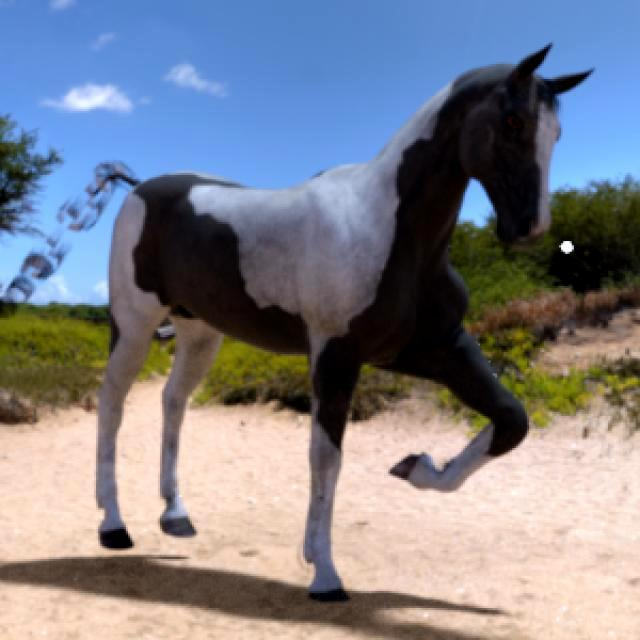horse: (59, 46, 590, 601), (6, 236, 66, 301)
